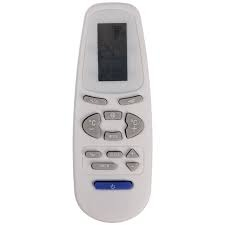remote control: (74, 6, 155, 225)
